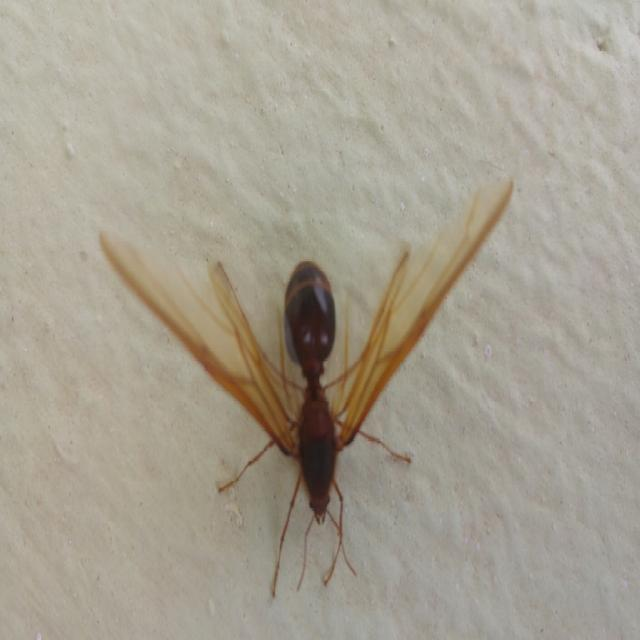Alive-Male-Alate: (97, 174, 514, 602)
